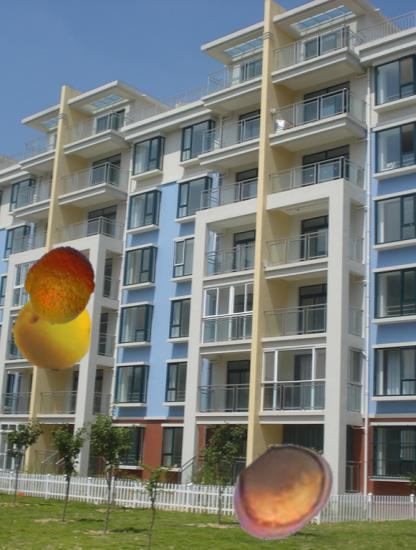Hazelnut: (226, 435, 339, 548)
Mandarine: (20, 245, 101, 326)
Peach: (12, 290, 93, 371)
